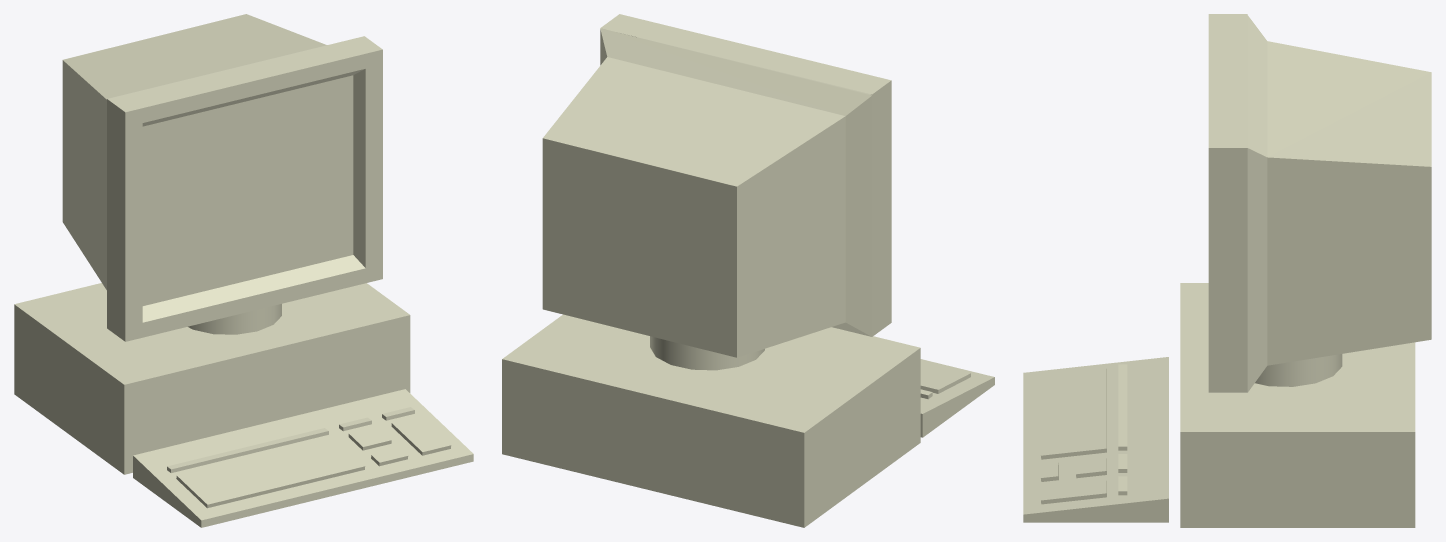
Rendered from uploads_files_110302_lpc1.FBX.
3 views of the same model, side by side, from view 1: azimuth 30°, elevation 25°; view 2: azimuth 150°, elevation 25°; view 3: azimuth 270°, elevation 25° (orthographic). The views are drawn at different scales.
Parts seen in each view (by area): view 1: Layer0_001; view 2: Layer0_001; view 3: Layer0_001.
Part boxes in pixels (x1,y1,x2,y2): Layer0_001: (14, 14, 473, 527); Layer0_001: (502, 14, 994, 527); Layer0_001: (1023, 14, 1431, 527).
Bounding box in the file's own units: 50.69 × 59.14 × 58.77.
